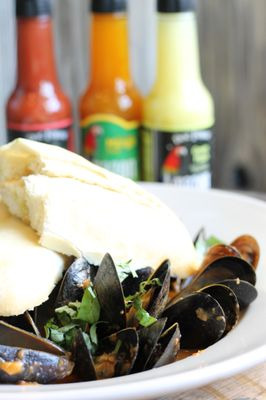sushi: (0, 212, 264, 399)
